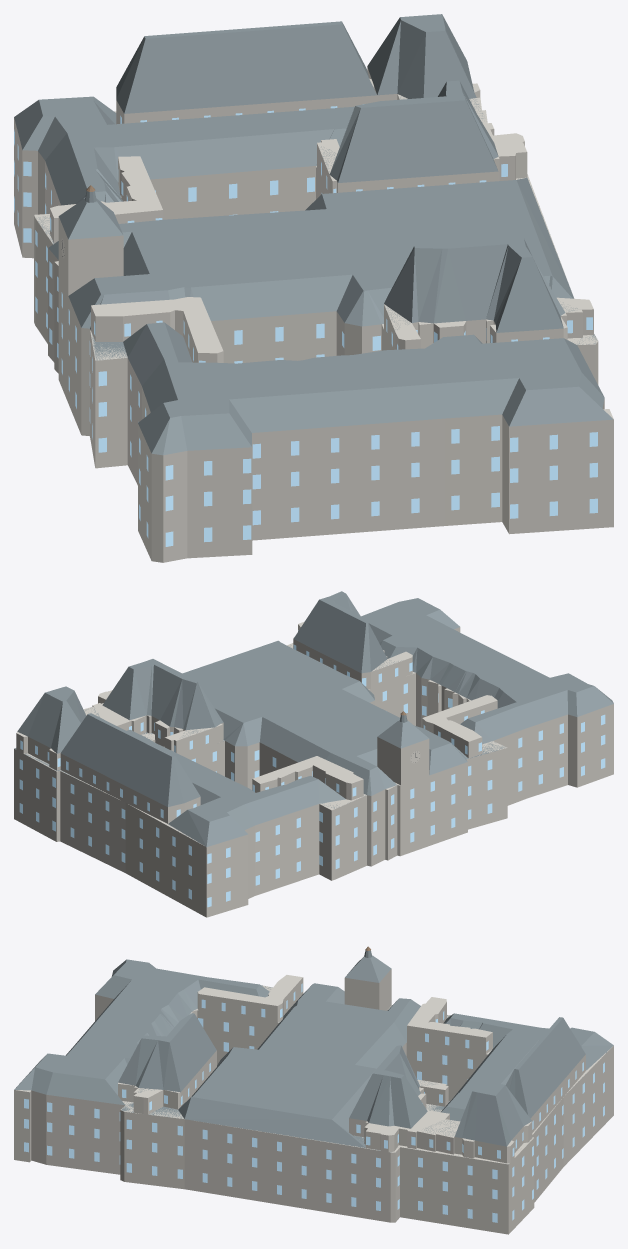
The picture shows the model from 3 angles, top to bottom: view 1: azimuth 30°, elevation 25°; view 2: azimuth 150°, elevation 25°; view 3: azimuth 270°, elevation 25°; orthographic projection. The views are drawn at different scales.
Visible parts, largest first — view 1: roof, stone, window; view 2: stone, roof, window; view 3: stone, roof, window.
Part boxes in pixels (x1,y1,x2,y2): roof: [14, 14, 613, 455]; stone: [14, 67, 613, 562]; window: [14, 104, 597, 546]; stone: [14, 621, 613, 917]; roof: [14, 591, 613, 846]; window: [19, 630, 605, 907]; stone: [14, 969, 613, 1234]; roof: [14, 950, 613, 1163]; window: [24, 983, 604, 1222].
Bounding box in the file's own units: 126 × 40 × 163.
